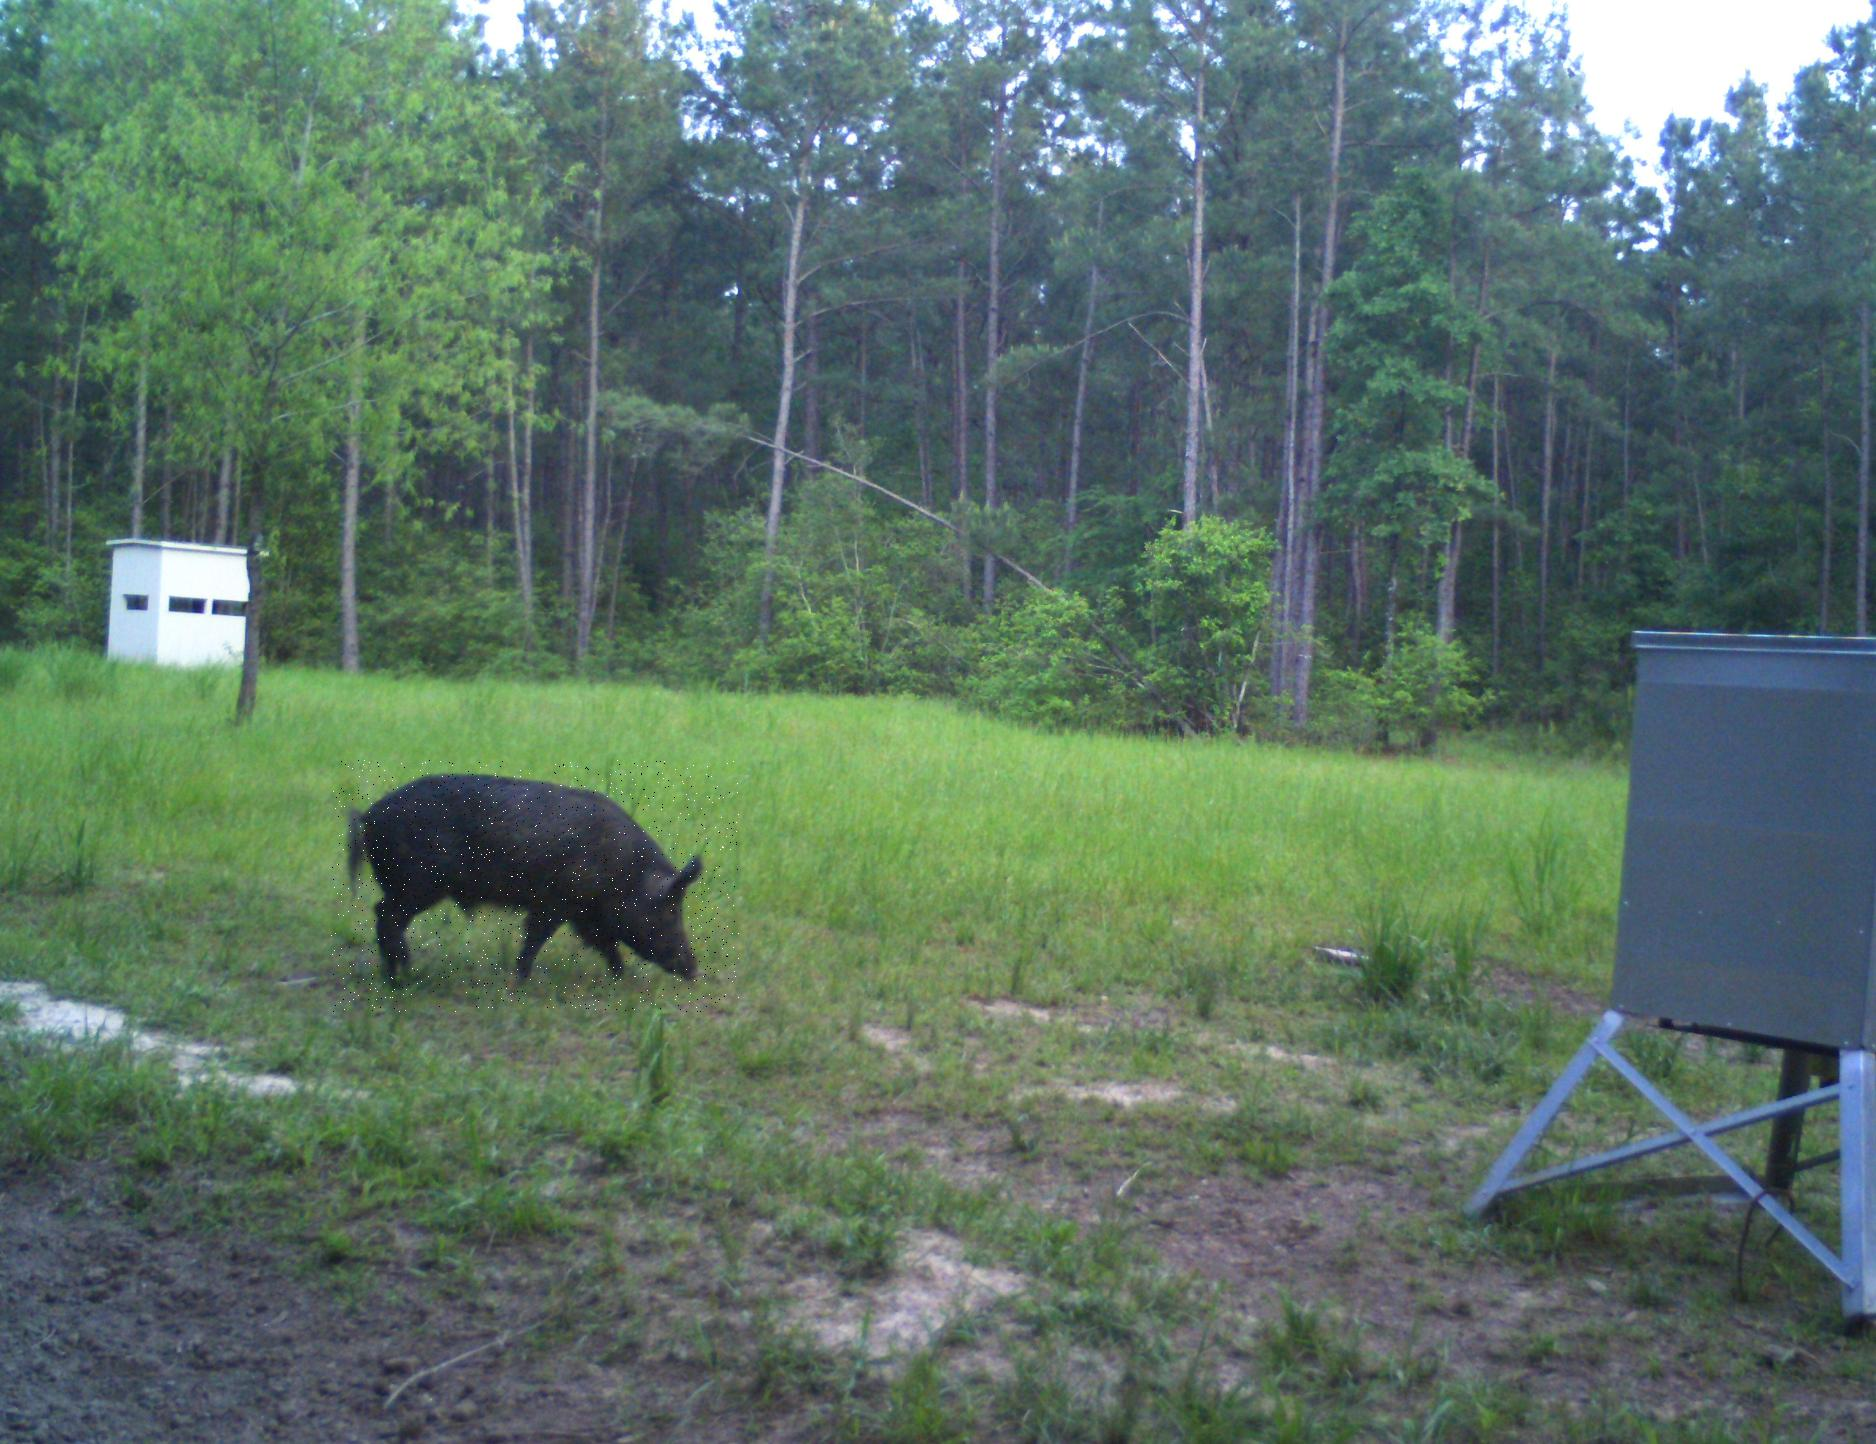Hog: (331, 760, 739, 1012)
